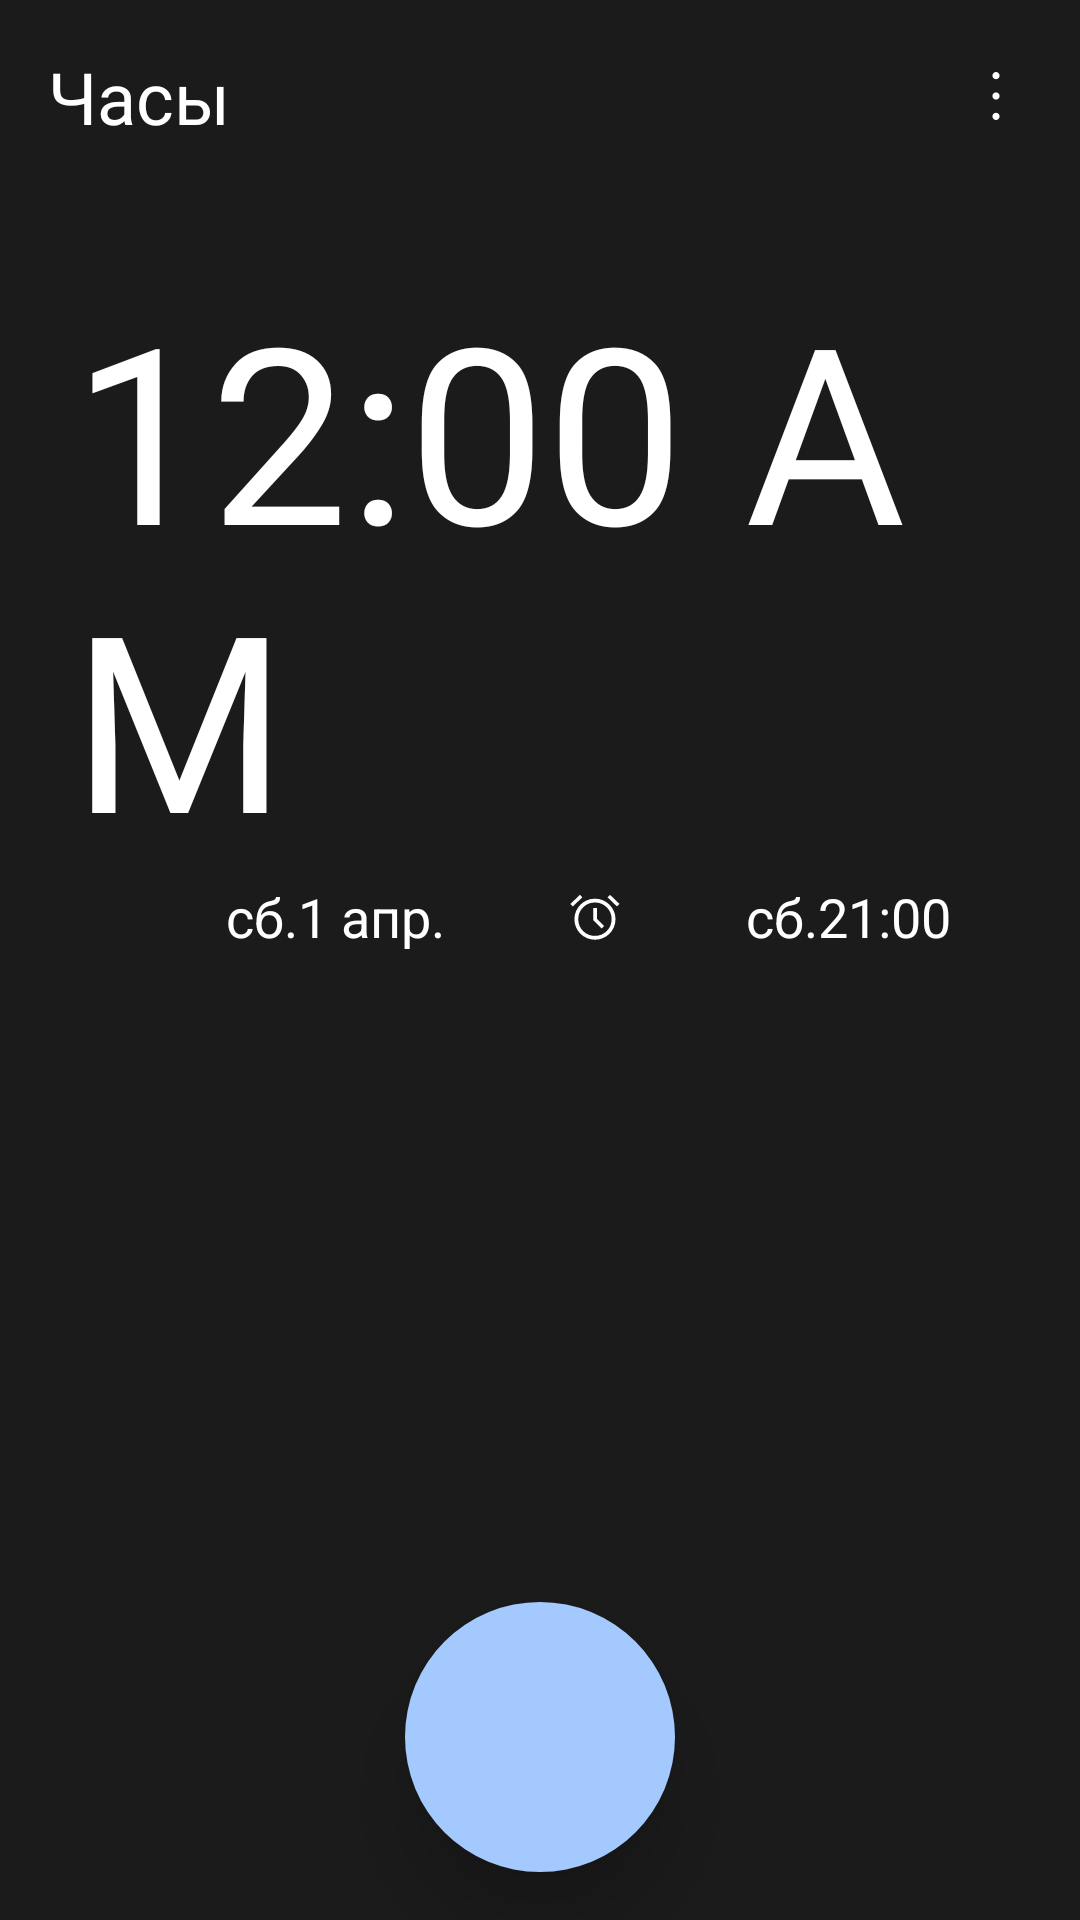

Icons on this 1080*1920 Android screen, each with its box as (x1, y1, x2, y2):
alarm: (570, 895, 620, 940)
